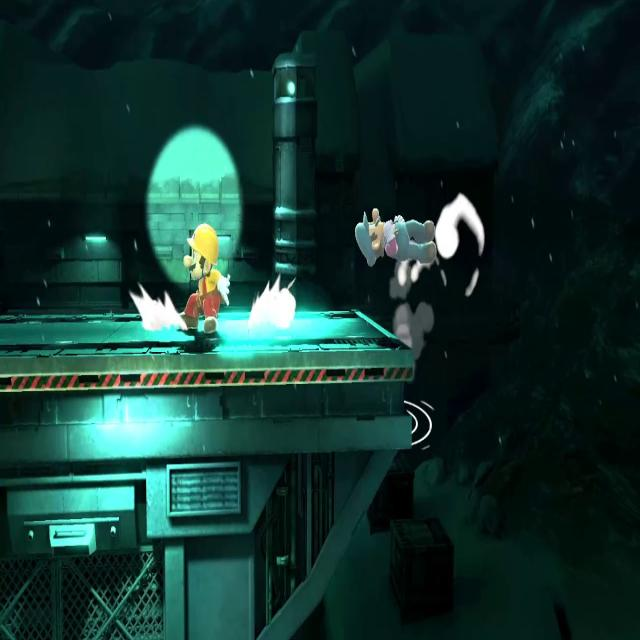Mario: (174, 218, 232, 338)
Mario-JA: (349, 202, 441, 458)
